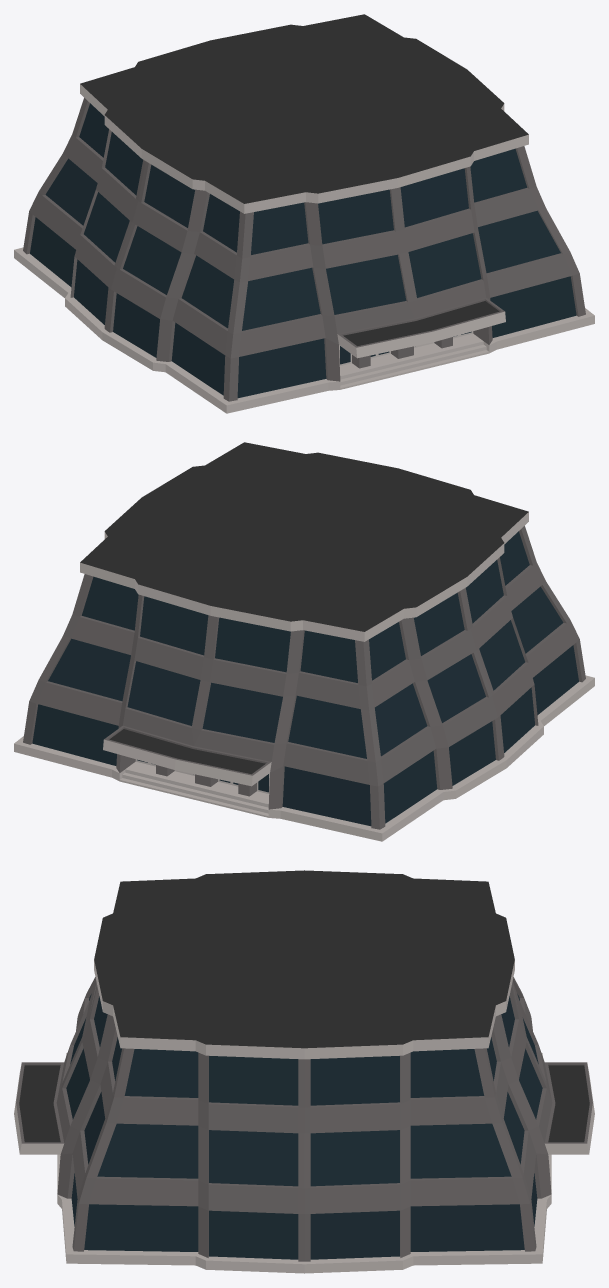
File: skyscraper2-part-bottom.glb
3 renders of one model, top to bottom at view 1: azimuth 30°, elevation 25°; view 2: azimuth 150°, elevation 25°; view 3: azimuth 270°, elevation 25°, orthographic. The views are drawn at different scales.
Visible parts, largest first — view 1: skyscraper2-part-bottom; view 2: skyscraper2-part-bottom; view 3: skyscraper2-part-bottom.
Part boxes in pixels (bbox=[...]): skyscraper2-part-bottom: bbox=[14, 14, 594, 413]; skyscraper2-part-bottom: bbox=[14, 442, 594, 841]; skyscraper2-part-bottom: bbox=[14, 870, 594, 1273].
Bounding box in the file's own units: 25.6 × 11 × 28.45.
Materials: 1 (1 with a texture image).
